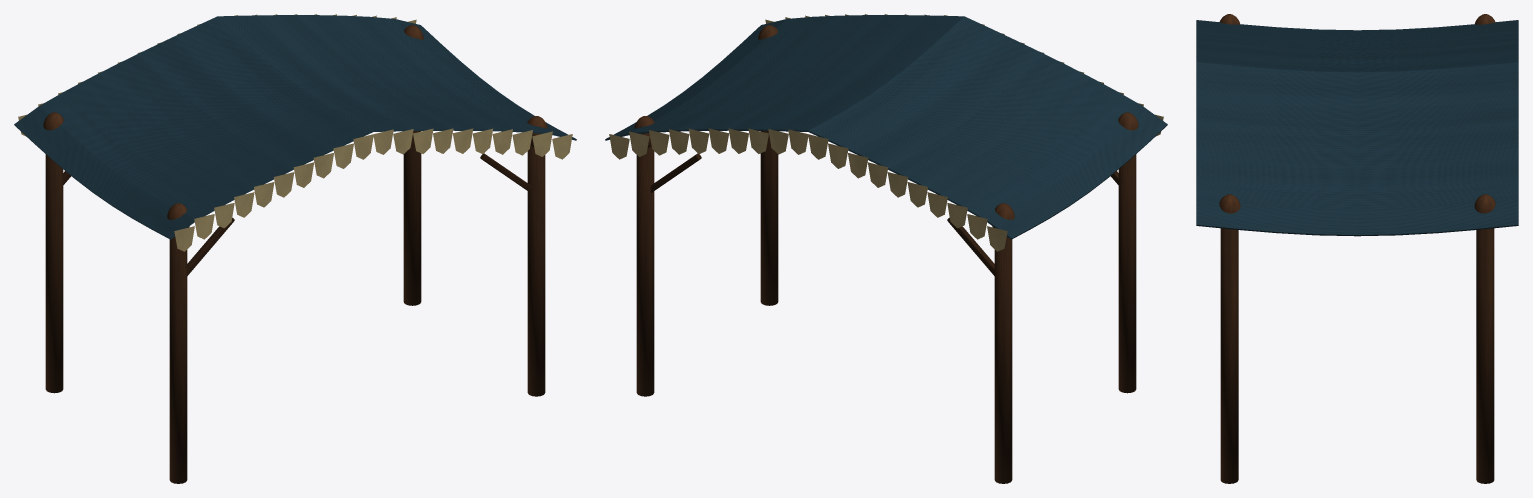
Rendered from research_pavilion.glb.
3 renders of one model, left to right at view 1: azimuth 30°, elevation 25°; view 2: azimuth 150°, elevation 25°; view 3: azimuth 270°, elevation 25°, orthographic. The views are drawn at different scales.
Parts seen in each view (by area): view 1: research_pavilion_blue_wool, research_pavilion_dark_oak, research_pavilion_linen, research_pavilion_oak; view 2: research_pavilion_blue_wool, research_pavilion_dark_oak, research_pavilion_linen, research_pavilion_oak; view 3: research_pavilion_blue_wool, research_pavilion_dark_oak, research_pavilion_oak.
Boxes of the visible parts, x1=… form: research_pavilion_blue_wool: x1=14, y1=15, x2=576, y2=239; research_pavilion_dark_oak: x1=45, y1=131, x2=545, y2=483; research_pavilion_linen: x1=18, y1=14, x2=572, y2=251; research_pavilion_oak: x1=43, y1=25, x2=547, y2=227; research_pavilion_blue_wool: x1=605, y1=15, x2=1167, y2=239; research_pavilion_dark_oak: x1=636, y1=131, x2=1136, y2=483; research_pavilion_linen: x1=609, y1=14, x2=1163, y2=251; research_pavilion_oak: x1=634, y1=25, x2=1138, y2=227; research_pavilion_blue_wool: x1=1196, y1=20, x2=1518, y2=236; research_pavilion_dark_oak: x1=1220, y1=228, x2=1494, y2=483; research_pavilion_oak: x1=1219, y1=14, x2=1495, y2=213.
Bounding box in the file's own units: 5.12 × 3.82 × 3.4.
Materials: 4 (4 with a texture image).
